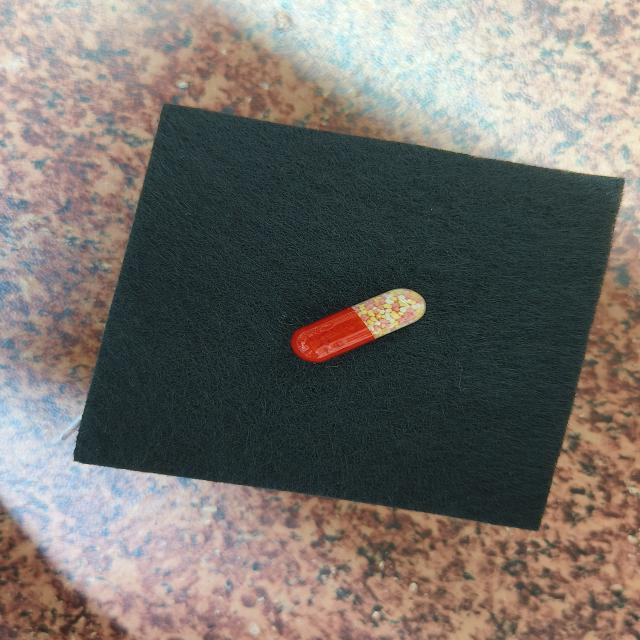Intact Capsule: (291, 288, 426, 362)
